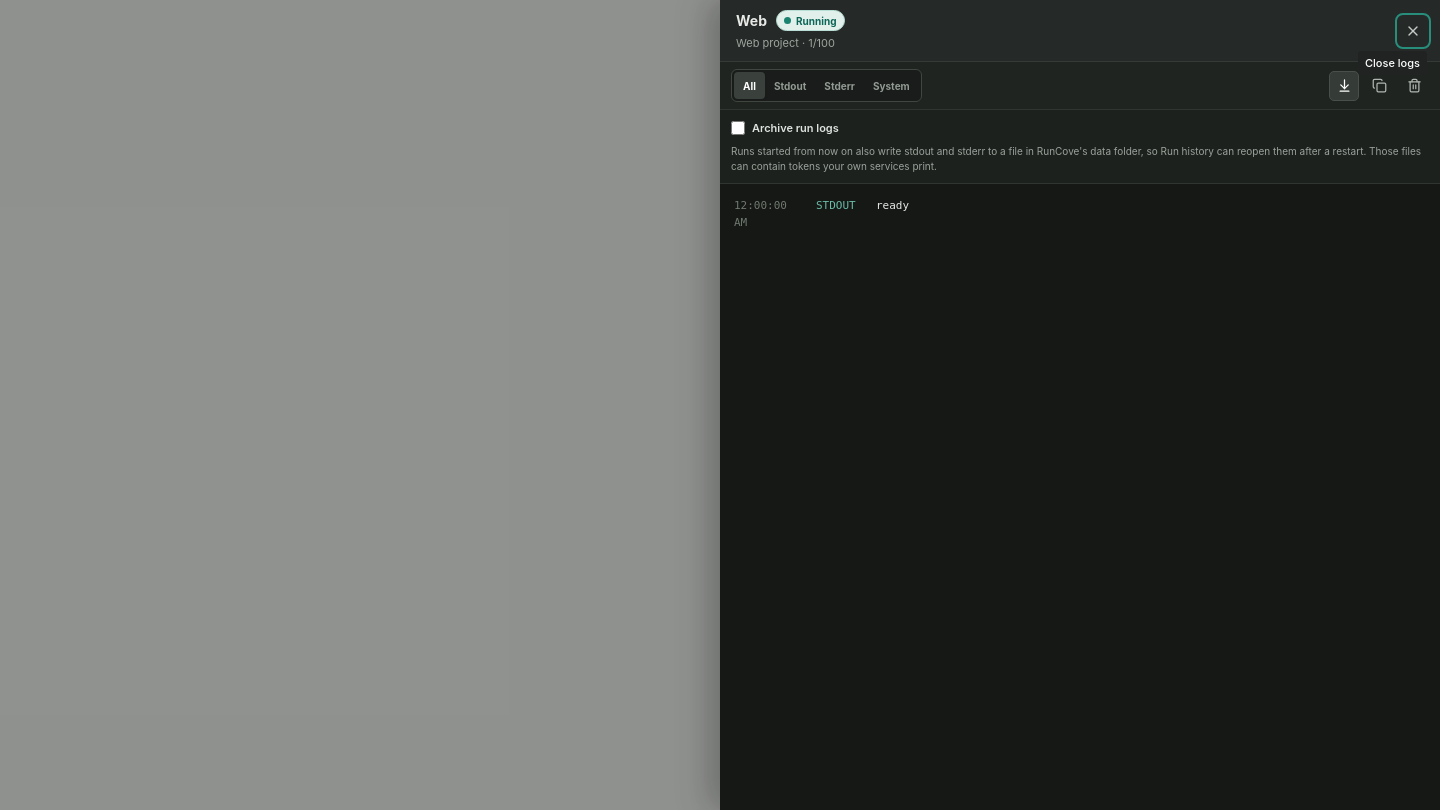
LogDrawer failures › keeps existing logs visible when clearing fails
Expected: the text "ready" is shown, left=876, top=199, right=909, bottom=212
Click the button named "Clear session logs". click: click(1414, 86)
box: left=1399, top=70, right=1429, bottom=100
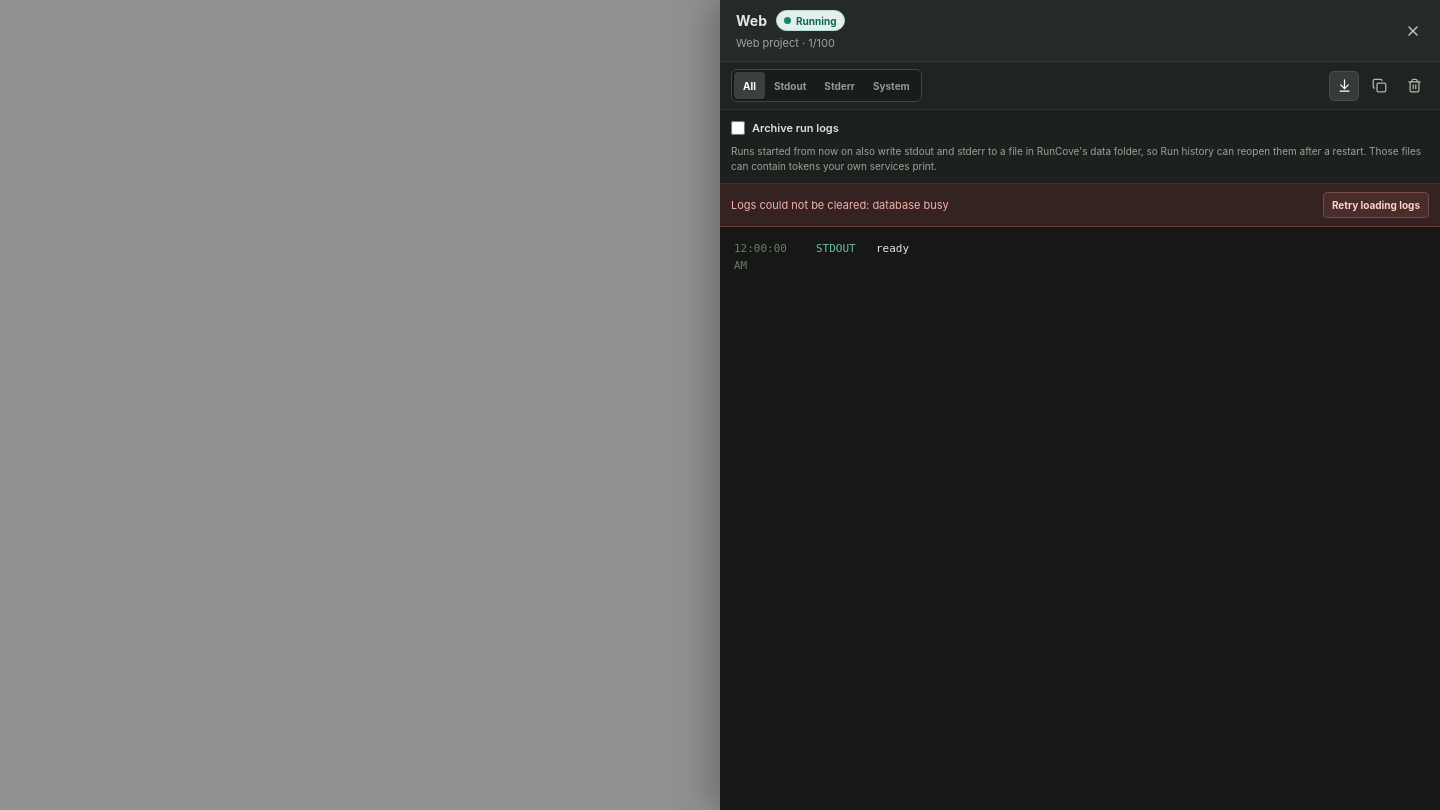
Expected: the text "ready" is shown, left=876, top=242, right=909, bottom=255
Expected: the message shows "Logs could not be cleared: database busy", left=731, top=198, right=949, bottom=212
